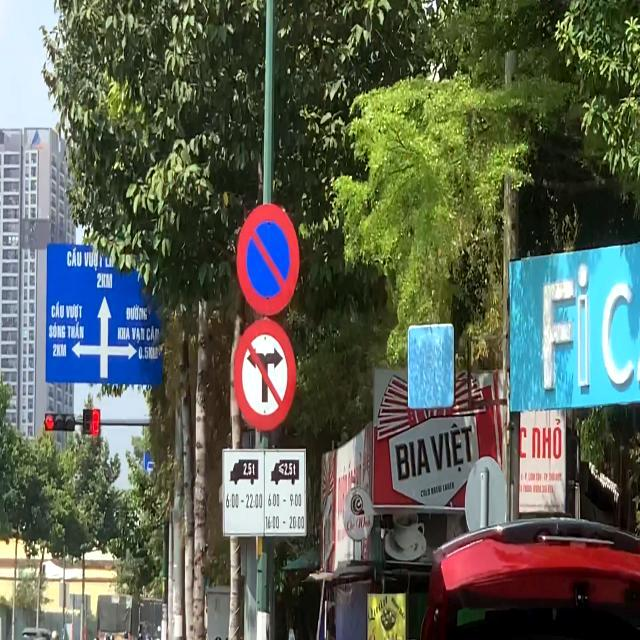Cam do xe: (236, 202, 300, 317)
